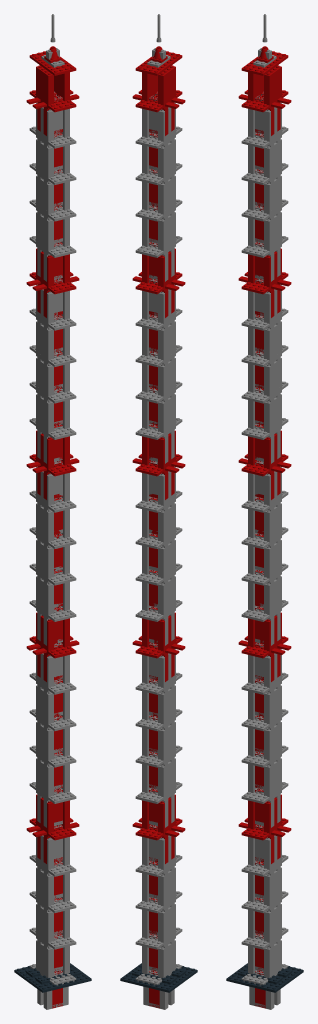
The model's file is 004-generated_25_floors_skyscraper.glb.
The picture shows the model from 3 angles, left to right: view 1: azimuth 30°, elevation 25°; view 2: azimuth 150°, elevation 25°; view 3: azimuth 330°, elevation 25°; orthographic projection.
Visible parts, largest first — view 1: 3035.dat (×26), 3958.dat (×2), 2493b.dat; view 2: 3035.dat (×26), 3958.dat (×2), 2493b.dat; view 3: 3035.dat (×26), 3958.dat (×2), 2493b.dat.
Boxes of the visible parts, x1=… form: 3035.dat (×26): x1=29, y1=51, x2=76, y2=985; 3958.dat (×2): x1=23, y1=964, x2=91, y2=992; 2493b.dat: x1=43, y1=970, x2=68, y2=1009; 3035.dat (×26): x1=135, y1=51, x2=182, y2=985; 3958.dat (×2): x1=136, y1=966, x2=197, y2=992; 2493b.dat: x1=143, y1=970, x2=168, y2=1009; 3035.dat (×26): x1=241, y1=51, x2=288, y2=985; 3958.dat (×2): x1=226, y1=964, x2=294, y2=992; 2493b.dat: x1=249, y1=970, x2=274, y2=1009.
Size of the model in its own units: 0.072 by 1.39 by 0.072.
